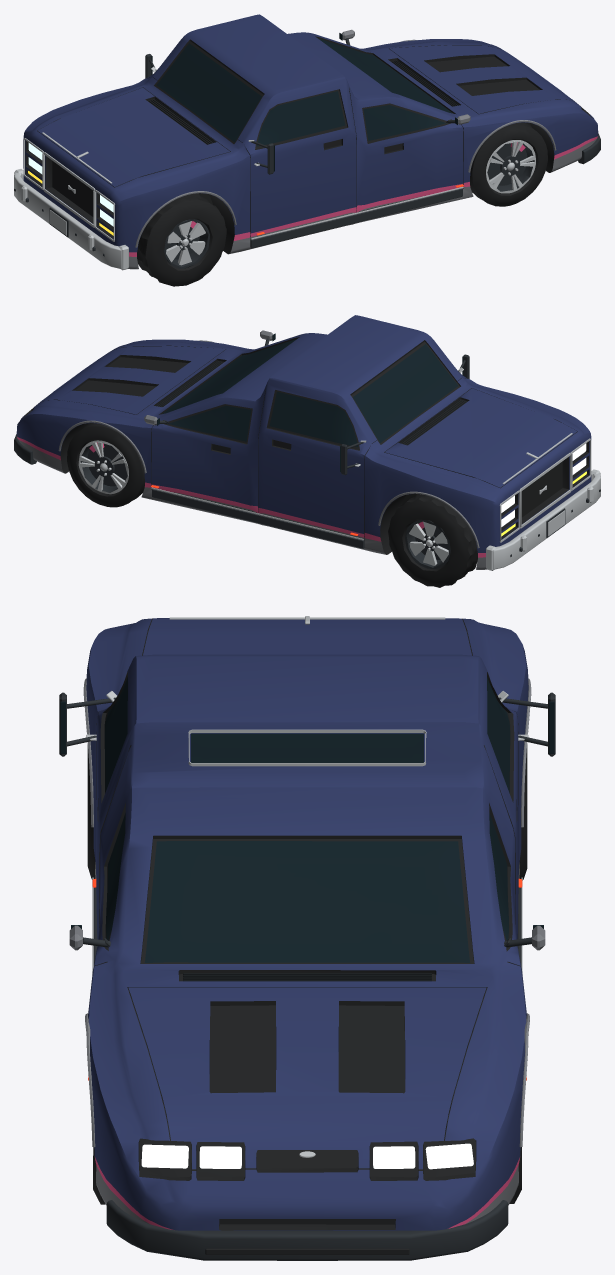
The model's file is nightshift_blueprint_LOD2.glb.
3 renders of one model, top to bottom at view 1: azimuth 30°, elevation 25°; view 2: azimuth 150°, elevation 25°; view 3: azimuth 270°, elevation 25°, orthographic. The views are drawn at different scales.
Parts seen in each view (by area): view 1: Body_NightshiftShell.001, Glass_TruckWindshield.001, Detail_BrushedMetal, Wheel_Truck_Tire_-1.001, Detail_Gunmetal, Wheel_Coupe_Tire_-1.001, Glass_TruckSide_R.001, Glass_CoupeWindshield.001, Glass_CoupeSide_R.001, Wheel_Coupe_Hub_-1.001, Detail_Secondary, Detail_Grille (+4 smaller); view 2: Body_NightshiftShell.001, Glass_TruckWindshield.001, Detail_BrushedMetal, Wheel_Truck_Tire_+1.001, Wheel_Coupe_Tire_+1.001, Detail_Gunmetal, Glass_TruckSide_L.001, Glass_CoupeWindshield.001, Glass_CoupeSide_L.001, Wheel_Coupe_Hub_+1.001, Detail_Secondary, Detail_Grille (+4 smaller); view 3: Body_NightshiftShell.001, Glass_CoupeWindshield.001, Detail_Gunmetal, Glass_CabRear.001, Detail_Headlight, Detail_BrushedMetal, Detail_Secondary, Detail_Grille, Glass_TruckSide_L.001, Glass_TruckSide_R.001, Detail_Rubber, Glass_CoupeSide_L.001 (+1 smaller).
Boxes of the visible parts, box(x1,y1,x2,y2) form: Body_NightshiftShell.001: box(23, 14, 598, 269); Glass_TruckWindshield.001: box(156, 43, 261, 142); Detail_BrushedMetal: box(14, 66, 463, 270); Wheel_Truck_Tire_-1.001: box(137, 193, 226, 286); Detail_Gunmetal: box(14, 38, 600, 256); Wheel_Coupe_Tire_-1.001: box(470, 122, 547, 206); Glass_TruckSide_R.001: box(256, 91, 345, 146); Glass_CoupeWindshield.001: box(318, 38, 451, 113); Glass_CoupeSide_R.001: box(363, 105, 447, 140); Wheel_Coupe_Hub_-1.001: box(487, 142, 527, 185); Detail_Secondary: box(135, 29, 556, 247); Detail_Grille: box(148, 60, 459, 144); Body_NightshiftShell.001: box(16, 315, 591, 569); Glass_TruckWindshield.001: box(353, 344, 458, 442); Detail_BrushedMetal: box(151, 367, 600, 570); Wheel_Truck_Tire_+1.001: box(388, 494, 477, 587); Wheel_Coupe_Tire_+1.001: box(67, 423, 144, 507); Detail_Gunmetal: box(14, 338, 600, 556); Glass_TruckSide_L.001: box(269, 392, 357, 446); Glass_CoupeWindshield.001: box(162, 339, 296, 413); Glass_CoupeSide_L.001: box(167, 405, 251, 441); Wheel_Coupe_Hub_+1.001: box(87, 442, 127, 486); Detail_Secondary: box(58, 330, 479, 548); Detail_Grille: box(155, 361, 466, 445); Body_NightshiftShell.001: box(86, 618, 528, 1230); Glass_CoupeWindshield.001: box(145, 841, 469, 962); Detail_Gunmetal: box(59, 692, 555, 1260); Glass_CabRear.001: box(191, 733, 423, 762); Detail_Headlight: box(141, 1143, 473, 1169); Detail_BrushedMetal: box(86, 616, 528, 1157); Detail_Secondary: box(69, 678, 545, 1147); Detail_Grille: box(183, 973, 431, 981); Glass_TruckSide_L.001: box(487, 677, 510, 792); Glass_TruckSide_R.001: box(104, 677, 127, 792); Detail_Rubber: box(205, 1248, 409, 1254); Glass_CoupeSide_L.001: box(489, 813, 508, 940).
Size of the model in its own units: 5.36 by 1.61 by 2.23.
